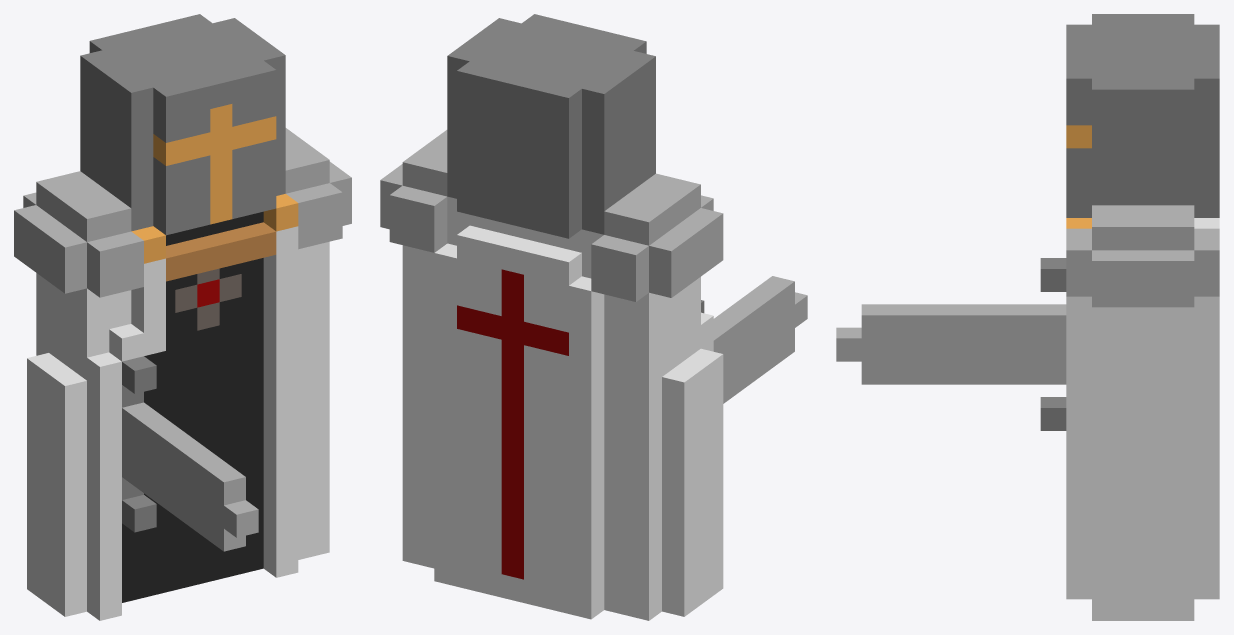
Rendered from Inquisidor - Idle.obj.
3 renders of one model, left to right at view 1: azimuth 30°, elevation 25°; view 2: azimuth 150°, elevation 25°; view 3: azimuth 270°, elevation 25°, orthographic.
Size of the model in its own units: 1.3 by 2.2 by 1.5.
Materials: 1 (1 with a texture image).
